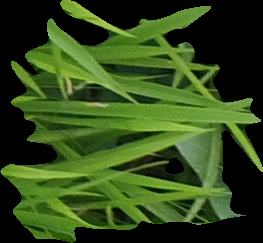grass: (1, 1, 262, 241)
